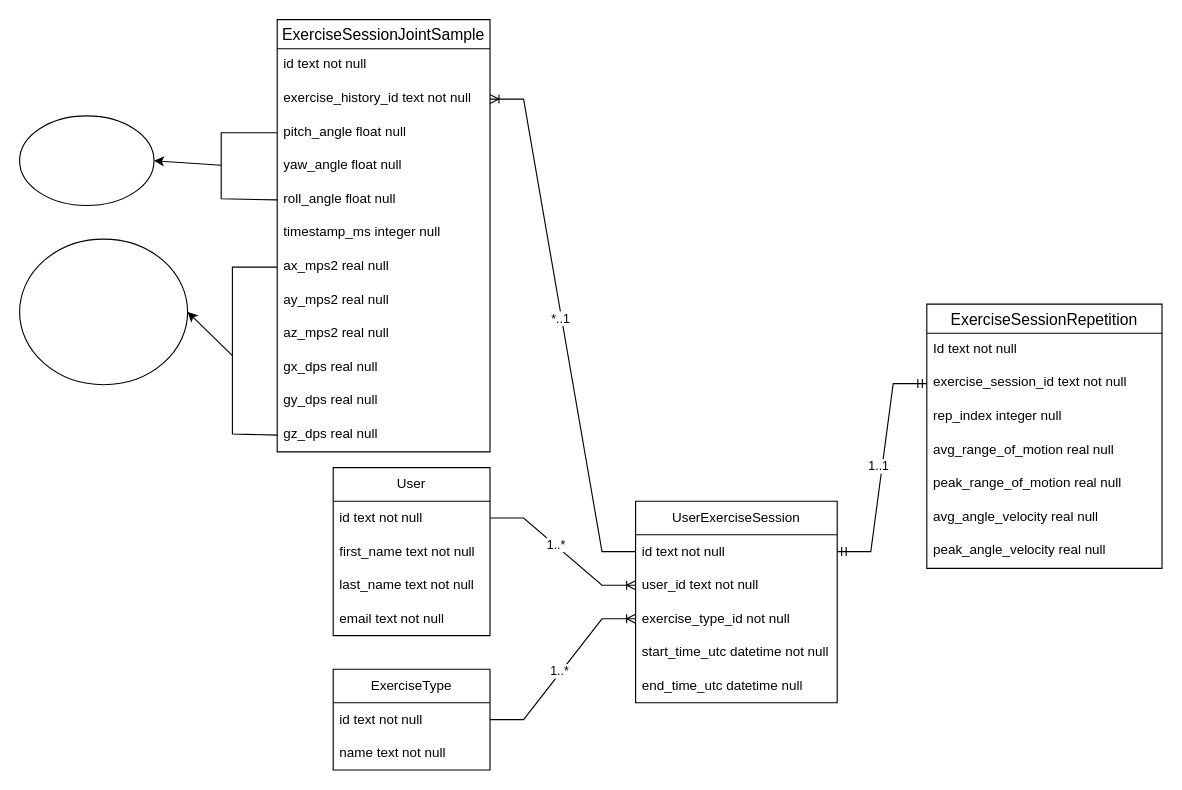
This 1182x790 diagram has some shape labels left out. The shapes that lost their labels are listed below. From the top down, each one's centre as x and y in pixels, then its label:
At [86,160]: "Processed Data".
At [103,311]: "RAW IMU data (accelerometer and gyroscope) before being processed".
